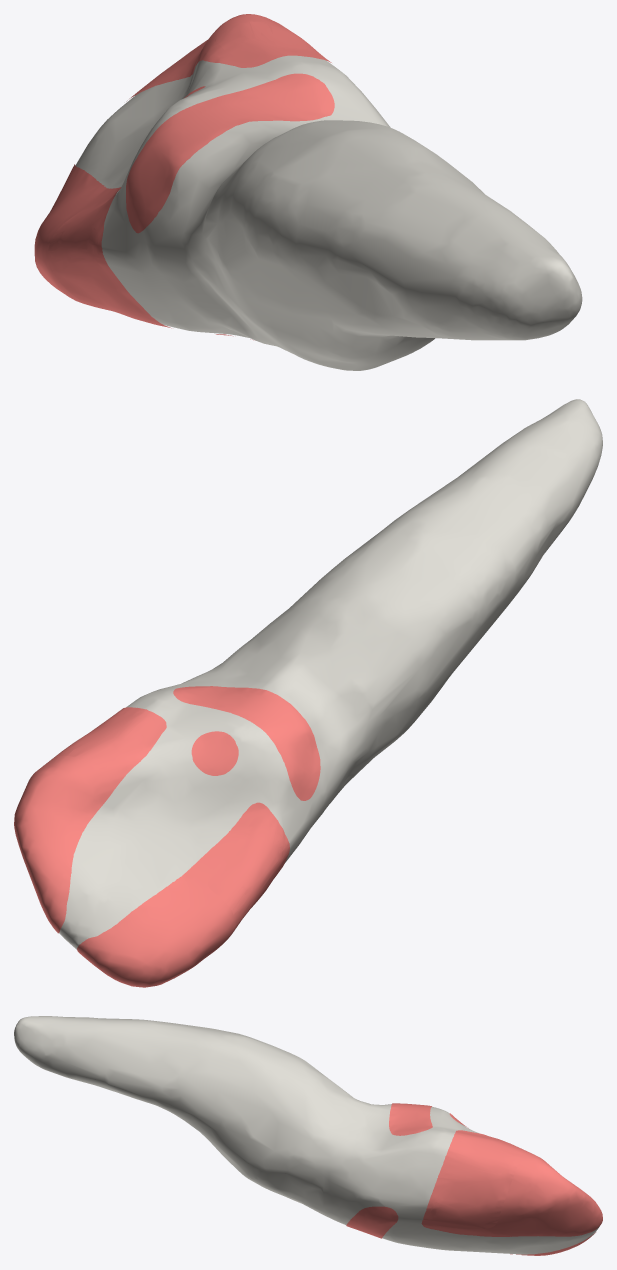
The model's file is tooth_22_FMA55683.glb.
The picture shows the model from 3 angles, top to bottom: view 1: azimuth 30°, elevation 25°; view 2: azimuth 150°, elevation 25°; view 3: azimuth 270°, elevation 25°; orthographic projection. The views are drawn at different scales.
Parts seen in each view (by area): view 1: tooth_22, class5_lingual, class4_mesial, class3_mesial, class4_distal, class3_distal; view 2: tooth_22, class4_mesial, class4_distal, class5_lingual, class3_mesial, class3_distal, class1_lingual_pit; view 3: tooth_22, class4_distal, class3_distal, class5_lingual, class5_facial.
Boxes of the visible parts, left/top/right/bottom form: tooth_22: left=75, top=55, right=582, bottom=370; class5_lingual: left=126, top=73, right=334, bottom=233; class4_mesial: left=34, top=164, right=171, bottom=328; class3_mesial: left=48, top=195, right=166, bottom=326; class4_distal: left=126, top=14, right=331, bottom=101; class3_distal: left=215, top=21, right=327, bottom=60; tooth_22: left=59, top=399, right=602, bottom=949; class4_mesial: left=77, top=802, right=289, bottom=987; class4_distal: left=14, top=707, right=166, bottom=933; class5_lingual: left=173, top=686, right=320, bottom=800; class3_mesial: left=207, top=816, right=286, bottom=930; class3_distal: left=54, top=711, right=154, bottom=769; class1_lingual_pit: left=191, top=731, right=238, bottom=775; tooth_22: left=14, top=1016, right=599, bottom=1254; class4_distal: left=421, top=1130, right=602, bottom=1236; class3_distal: left=428, top=1132, right=524, bottom=1228; class5_lingual: left=389, top=1103, right=432, bottom=1135; class5_facial: left=346, top=1206, right=398, bottom=1238.
Bounding box in the file's own units: 9.14 × 11.07 × 27.35.
